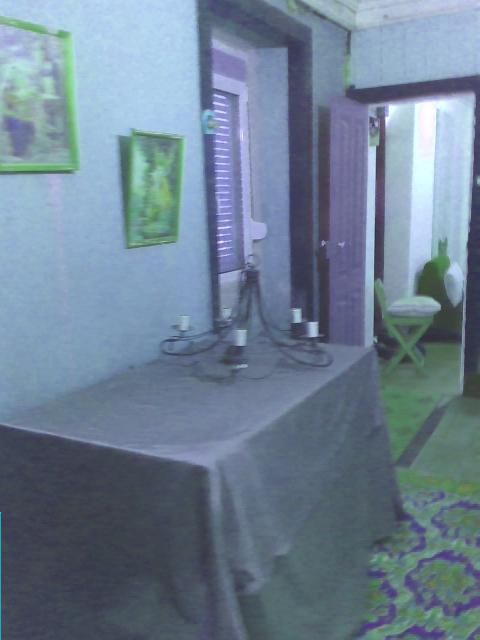open_door: (333, 72, 479, 395)
